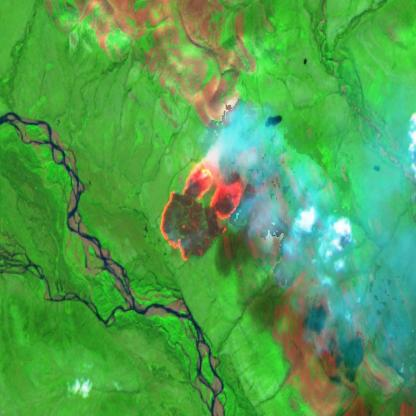fire: (157, 151, 245, 264)
